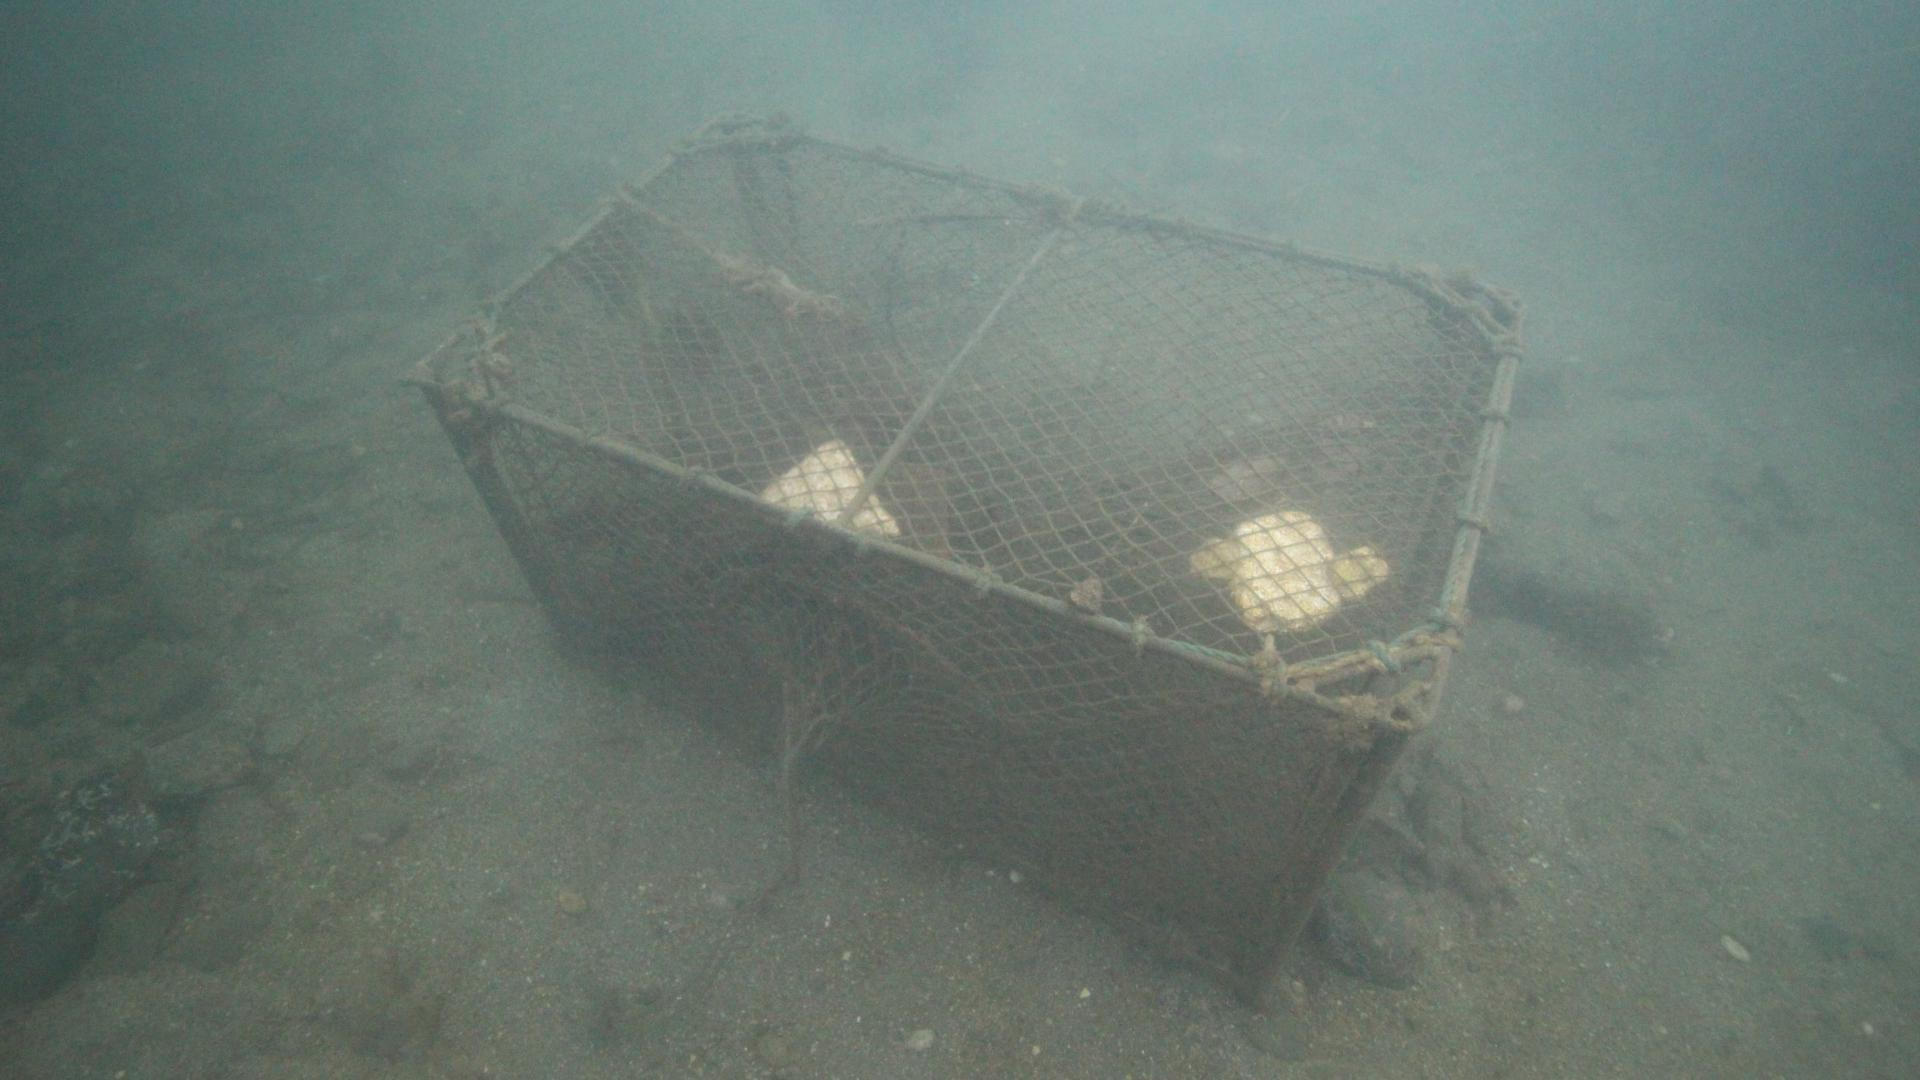rectangular fish trap: (398, 104, 1531, 1013)
